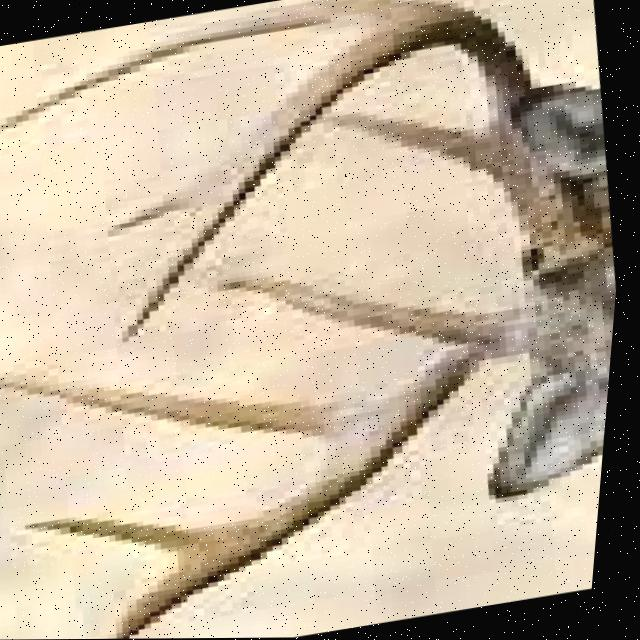L-F: (116, 289, 601, 639)
L-G1: (207, 274, 494, 347)
L-G2: (0, 369, 370, 445)
L-G3: (25, 515, 232, 557)
R-F: (120, 2, 616, 350)
R-G1: (318, 110, 500, 187)
R-G2: (0, 0, 444, 136)
R-G3: (104, 173, 206, 243)
